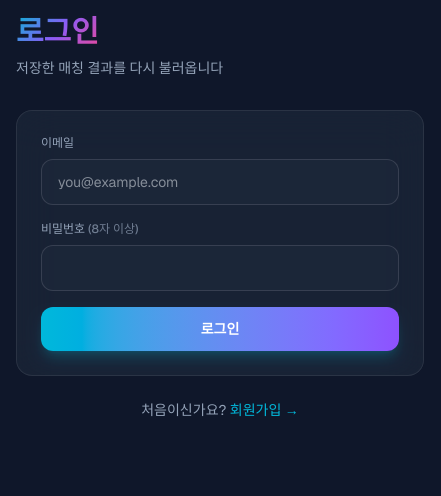
it: AuthForm: 비밀번호 길이 검증 › 8자 미만 (login 모드)도 같은 에러
Type "x@y.com" into the field labelled "이메일" at (220,182), box 41,159 -> 399,205
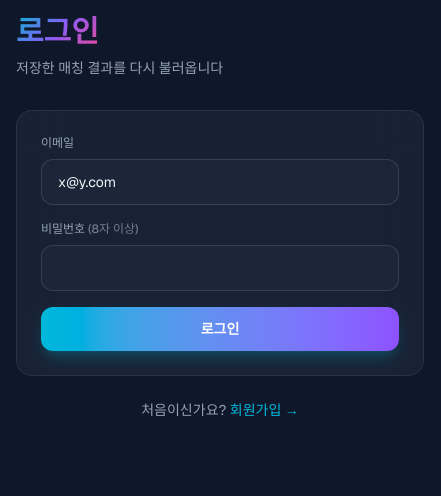
Type "1234567" into the password field labelled "비밀번호 (8자 이상)" at (220,268), box 41,245 -> 399,291
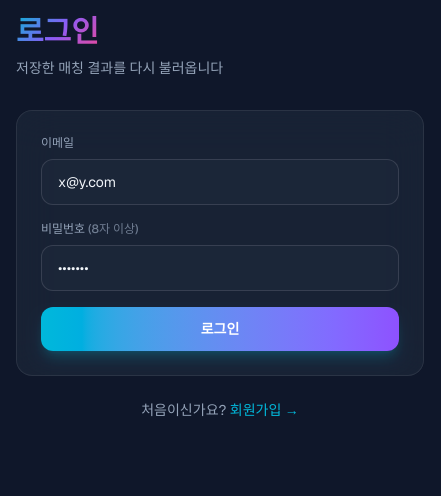
Click the button at (220,329), box 41,307 -> 399,351
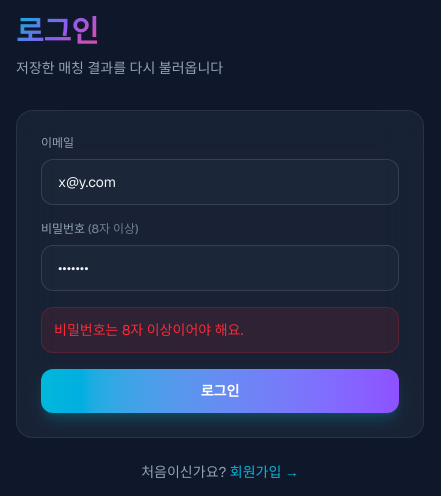
Expected: the message shows "8자 이상", 54,321 -> 243,339
